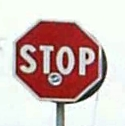stop: (15, 18, 104, 103)
